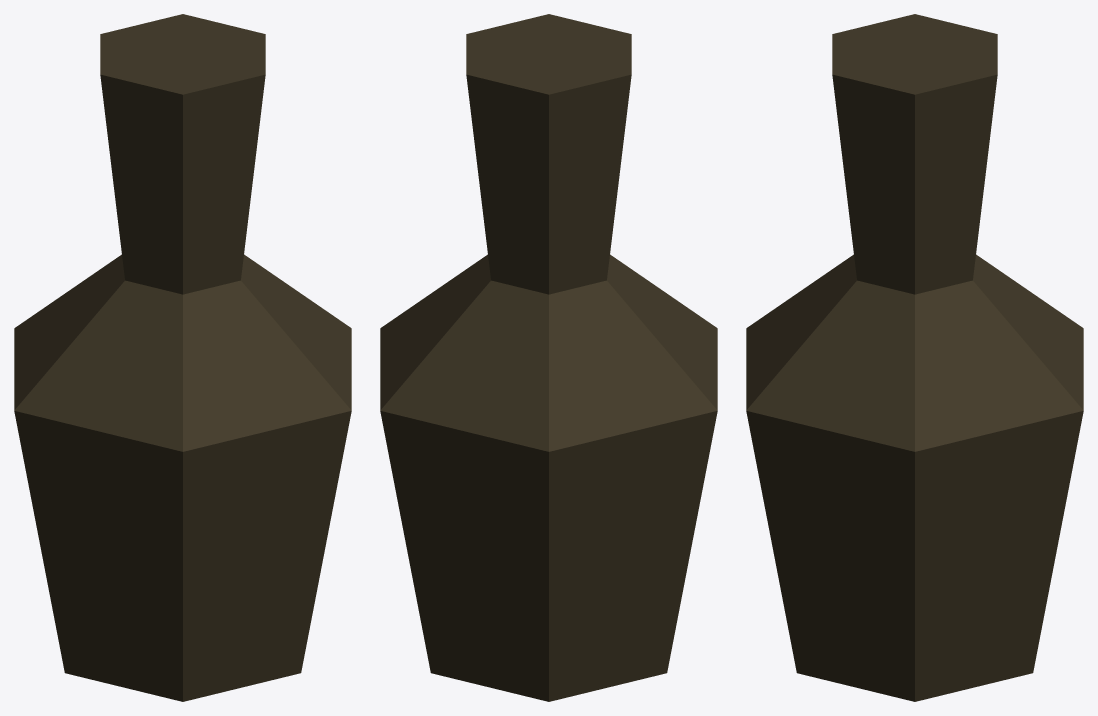
The model's file is ITMI_ALCHEMY_SYRIANOIL_01.OBJ.
3 views of the same model, side by side, from view 1: azimuth 30°, elevation 25°; view 2: azimuth 150°, elevation 25°; view 3: azimuth 270°, elevation 25° (orthographic).
Visible parts, largest first — view 1: ITMI_ALCHEMY_SYRIANOIL_01; view 2: ITMI_ALCHEMY_SYRIANOIL_01; view 3: ITMI_ALCHEMY_SYRIANOIL_01.
Part boxes in pixels (box(x1,y1,x2,y2)): ITMI_ALCHEMY_SYRIANOIL_01: box(14, 14, 351, 701); ITMI_ALCHEMY_SYRIANOIL_01: box(380, 14, 717, 701); ITMI_ALCHEMY_SYRIANOIL_01: box(746, 14, 1083, 701).
Bounding box in the file's own units: 0.15 × 0.2505 × 0.1299.
